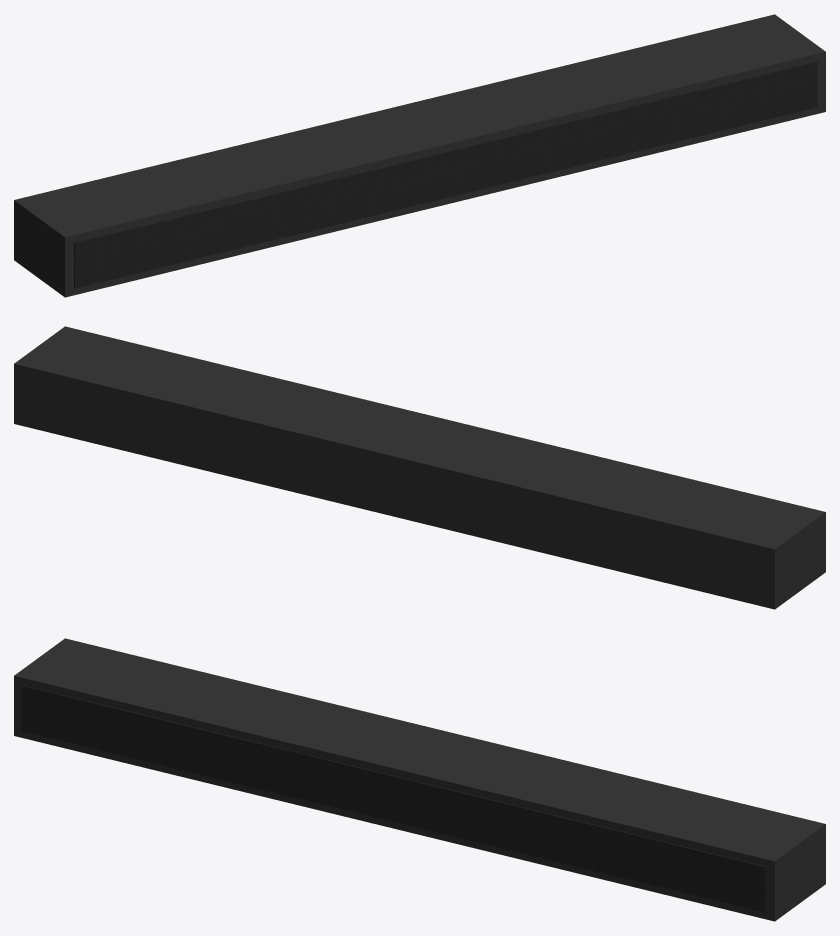
The model's file is obj-soundbar.glb.
3 views of the same model, one above another, from view 1: azimuth 30°, elevation 25°; view 2: azimuth 150°, elevation 25°; view 3: azimuth 330°, elevation 25° (orthographic).
Parts seen in each view (by area): view 1: obj-soundbar; view 2: obj-soundbar; view 3: obj-soundbar.
Boxes of the visible parts, x1=… form: obj-soundbar: x1=14, y1=14, x2=825, y2=297; obj-soundbar: x1=14, y1=326, x2=825, y2=609; obj-soundbar: x1=14, y1=638, x2=825, y2=921.
Bounding box in the file's own units: 0.86 × 0.065 × 0.1015.
2 materials, 1 textured.
